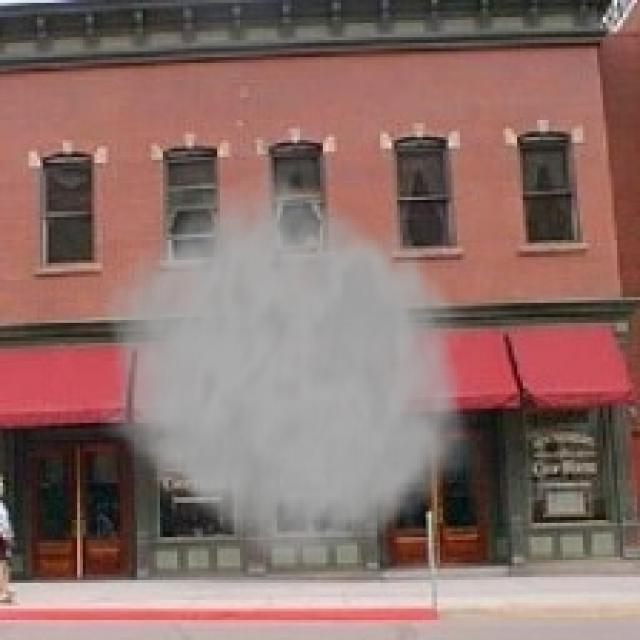Smoke: (100, 160, 486, 580)
